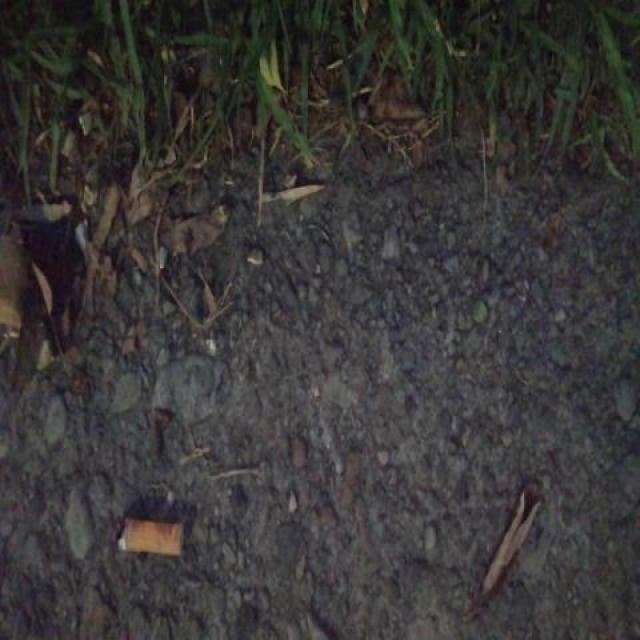non-organic waste: (111, 509, 189, 562)
